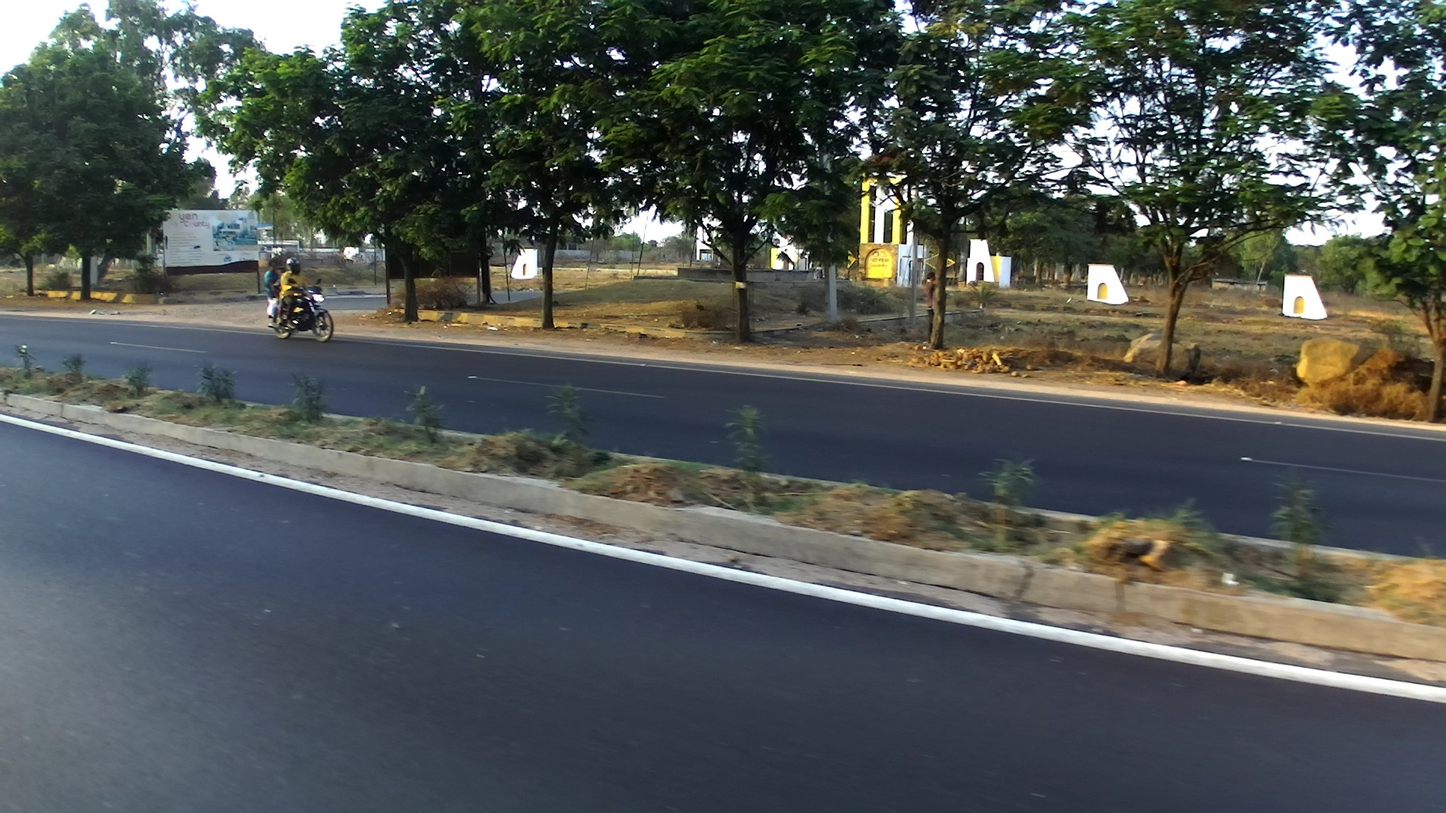motorcycle: (267, 275, 334, 341)
rider: (277, 258, 313, 332), (261, 257, 294, 328)
